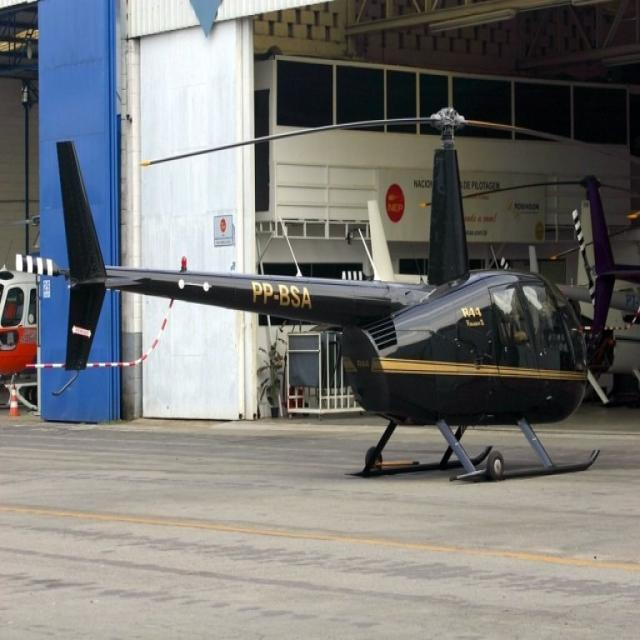CIV_HELO: (55, 102, 603, 486)
